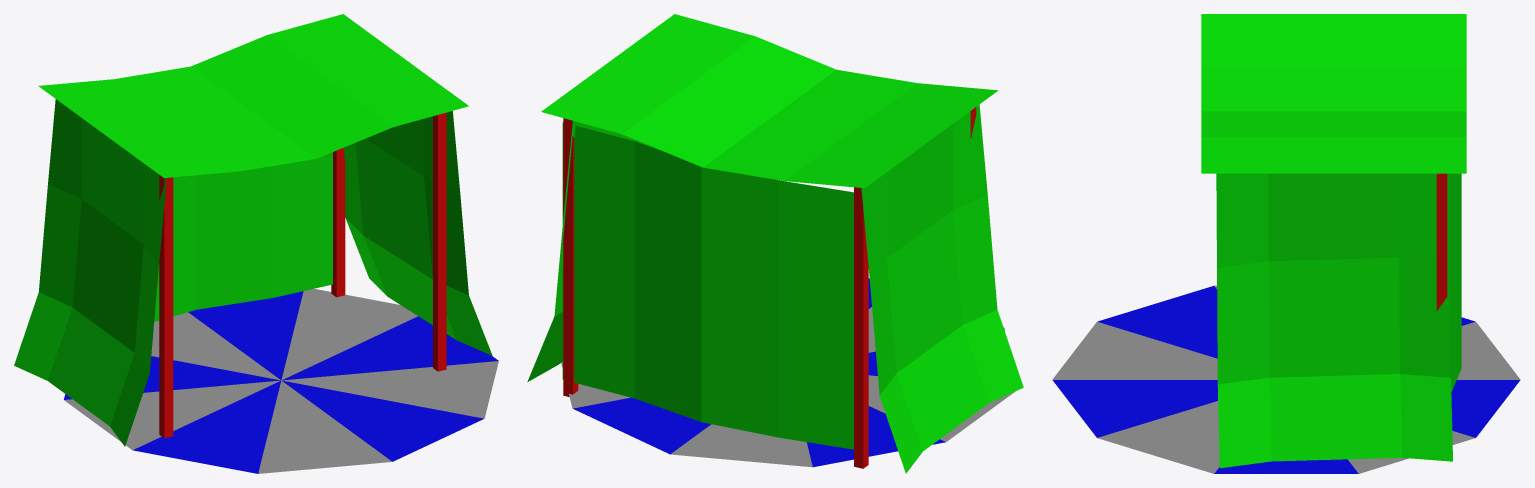
The model's file is Mini_ShopStand.fbx.
3 renders of one model, left to right at view 1: azimuth 30°, elevation 25°; view 2: azimuth 150°, elevation 25°; view 3: azimuth 270°, elevation 25°, orthographic. The views are drawn at different scales.
Parts seen in each view (by area): view 1: polySurface208; view 2: polySurface208; view 3: polySurface208.
Part boxes in pixels (left/top/right/bottom): polySurface208: left=14, top=14, right=498, bottom=473; polySurface208: left=527, top=14, right=1023, bottom=473; polySurface208: left=1052, top=14, right=1520, bottom=473.
Size of the model in its own units: 11.22 by 7.88 by 11.61.
